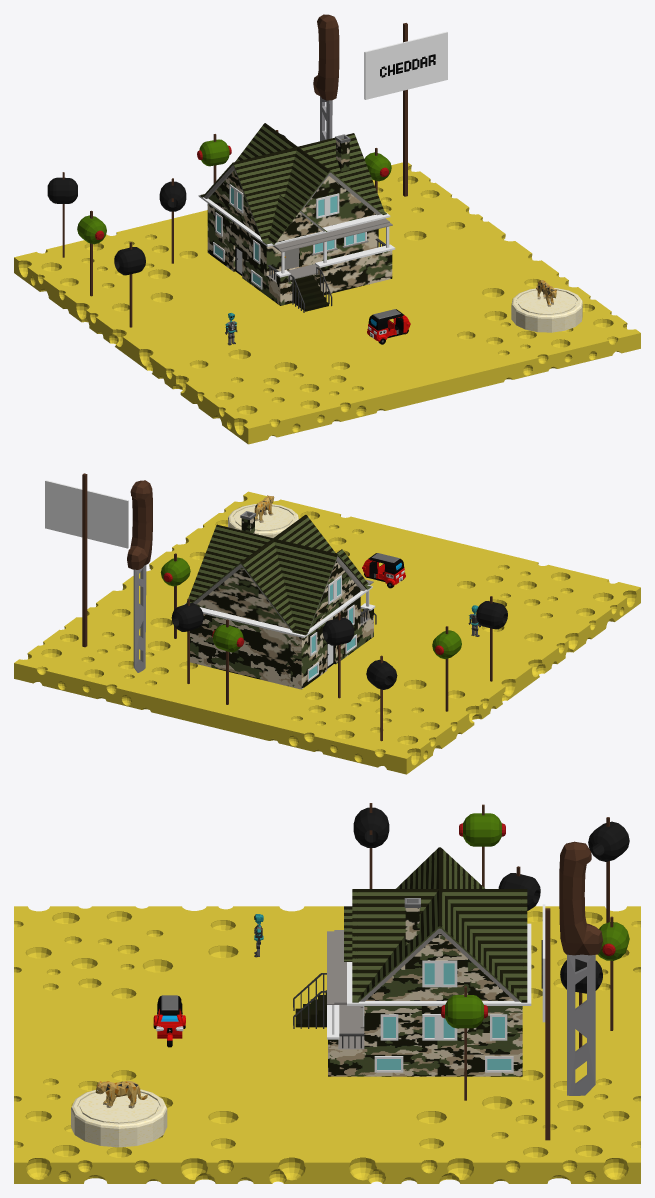
3 renders of one model, top to bottom at view 1: azimuth 30°, elevation 25°; view 2: azimuth 150°, elevation 25°; view 3: azimuth 270°, elevation 25°, orthographic. The views are drawn at different scales.
Parts seen in each view (by area): view 1: Cube.022, Cube.001, Cube.023, Cylinder.016, Cube.024, VEHICLES_TUC_TUC, Sphere.017, Sphere.016, Sphere.020, Sphere.018, Sphere.022, Sphere.019; view 2: Cube.022, Cube.001, Cube.023, Cube.024, Cylinder.016, VEHICLES_TUC_TUC, Sphere.017, Sphere.020, Sphere.021, Sphere.016, Sphere.018, Sphere.022 (+1 smaller); view 3: Cube.022, Cube.001, Cube.024, Cylinder.016, Cube.023, Sphere.019, Sphere.016, Sphere.018, Sphere.017, VEHICLES_TUC_TUC, Sphere.022, ANIMAL_JAGUAR (+2 smaller).
Boxes of the visible parts, x1,y1,x2,y2 form: Cube.022: [14, 162, 640, 444]; Cube.001: [198, 123, 395, 312]; Cube.023: [364, 23, 447, 196]; Cylinder.016: [511, 288, 582, 332]; Cube.024: [313, 14, 339, 141]; VEHICLES_TUC_TUC: [367, 309, 410, 344]; Sphere.017: [114, 242, 145, 327]; Sphere.016: [47, 172, 77, 257]; Sphere.020: [159, 178, 186, 263]; Sphere.018: [77, 210, 106, 296]; Sphere.022: [197, 134, 231, 183]; Sphere.019: [364, 148, 391, 192]; Cube.022: [14, 491, 640, 774]; Cube.001: [184, 511, 376, 689]; Cube.023: [45, 473, 128, 647]; Cube.024: [127, 480, 152, 672]; Cylinder.016: [228, 504, 298, 537]; VEHICLES_TUC_TUC: [362, 553, 405, 588]; Sphere.017: [476, 596, 507, 681]; Sphere.020: [322, 612, 354, 698]; Sphere.021: [171, 598, 203, 683]; Sphere.016: [366, 655, 397, 741]; Sphere.018: [432, 626, 461, 711]; Sphere.022: [212, 619, 244, 704]; Cube.022: [14, 906, 640, 1183]; Cube.001: [293, 847, 531, 1076]; Cube.024: [559, 841, 602, 1095]; Cylinder.016: [71, 1089, 167, 1147]; Cube.023: [541, 904, 550, 1140]; Sphere.019: [441, 986, 487, 1100]; Sphere.016: [588, 817, 629, 922]; Sphere.018: [459, 804, 505, 887]; Sphere.017: [353, 803, 389, 888]; VEHICLES_TUC_TUC: [153, 995, 185, 1047]; Sphere.022: [598, 916, 629, 1030]; ANIMAL_JAGUAR: [95, 1081, 147, 1108].
Size of the model in its own units: 3917 by 2023 by 4000.
Materials: 41 (5 with a texture image).
